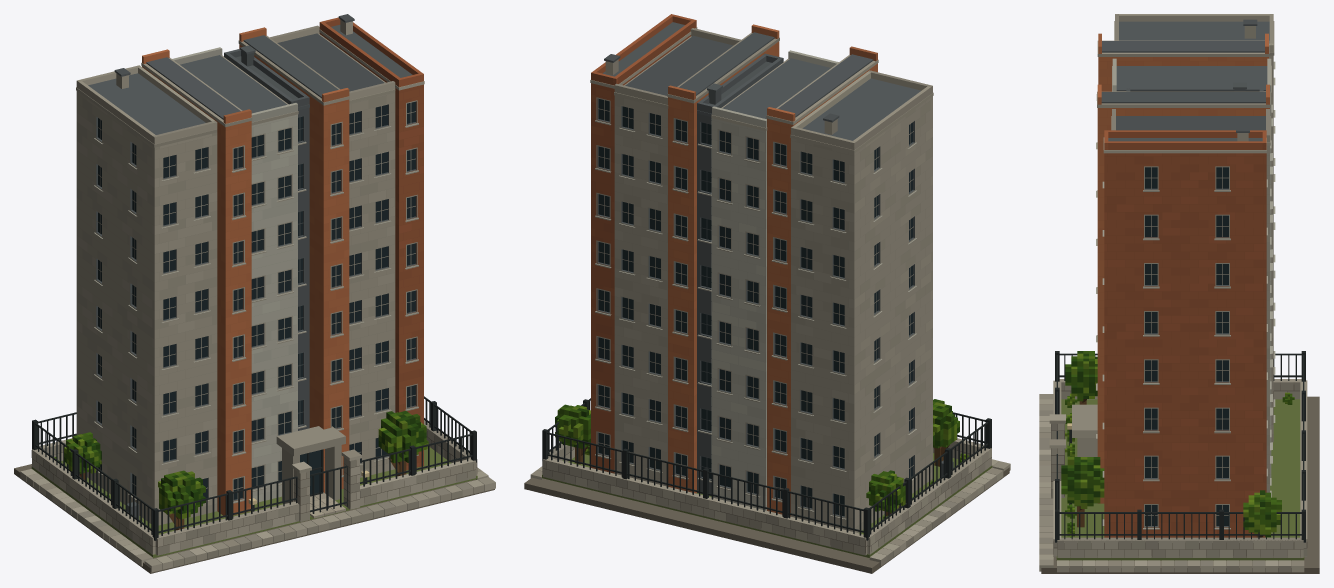
File: SM_Mapa_079.fbx
3 views of the same model, side by side, from view 1: azimuth 30°, elevation 25°; view 2: azimuth 150°, elevation 25°; view 3: azimuth 270°, elevation 25° (orthographic). The views are drawn at different scales.
Visible parts, largest first — view 1: SM_Mapa_079; view 2: SM_Mapa_079; view 3: SM_Mapa_079.
Boxes of the visible parts, bbox=[...] form: SM_Mapa_079: bbox=[14, 14, 495, 573]; SM_Mapa_079: bbox=[524, 14, 1010, 573]; SM_Mapa_079: bbox=[1039, 14, 1319, 573].
Bounding box in the file's own units: 32 × 21.95 × 36.32.
